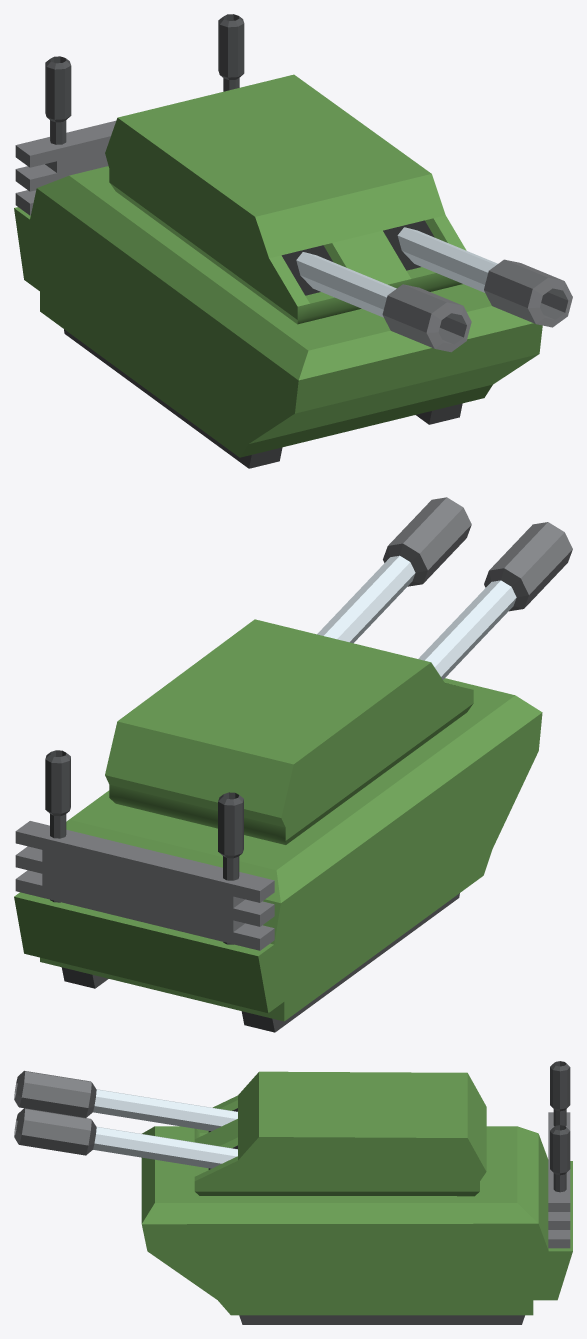
The model's file is Tank_1.fbx.
The picture shows the model from 3 angles, top to bottom: view 1: azimuth 30°, elevation 25°; view 2: azimuth 150°, elevation 25°; view 3: azimuth 270°, elevation 25°; orthographic projection. The views are drawn at different scales.
Parts seen in each view (by area): view 1: BaseTank, Object002, gun_barrel01, gun_barrel02; view 2: BaseTank, Object002, gun_barrel01, gun_barrel02; view 3: BaseTank, Object002, gun_barrel02, gun_barrel01.
Part boxes in pixels (<box>): BaseTank: <box>14,14,542,468</box>; Object002: <box>105,74,466,324</box>; gun_barrel01: <box>296,252,471,352</box>; gun_barrel02: <box>397,227,572,327</box>; BaseTank: <box>14,678,542,1032</box>; Object002: <box>105,619,473,844</box>; gun_barrel01: <box>418,522,572,679</box>; gun_barrel02: <box>317,497,471,643</box>; BaseTank: <box>141,1061,572,1324</box>; Object002: <box>194,1071,486,1196</box>; gun_barrel02: <box>14,1108,237,1168</box>; gun_barrel01: <box>14,1070,237,1131</box>.
Size of the model in its own units: 74.67 by 195 by 75.18.
